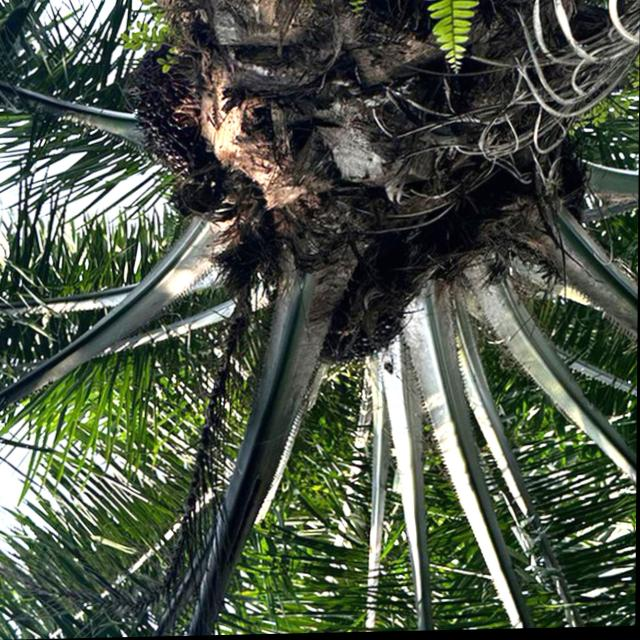unripe: (308, 270, 414, 373)
